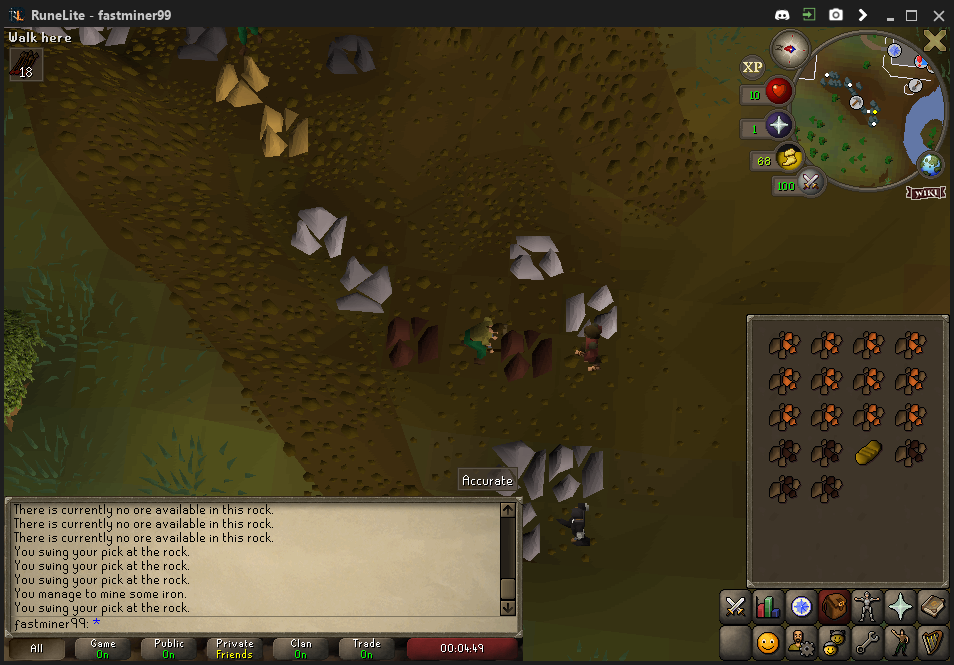ore: (498, 325, 556, 381), (387, 315, 439, 366)
